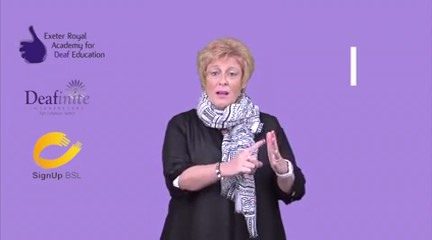I: (223, 125, 298, 190)
